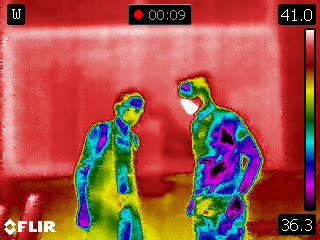human: (175, 71, 266, 240), (71, 88, 148, 240)
